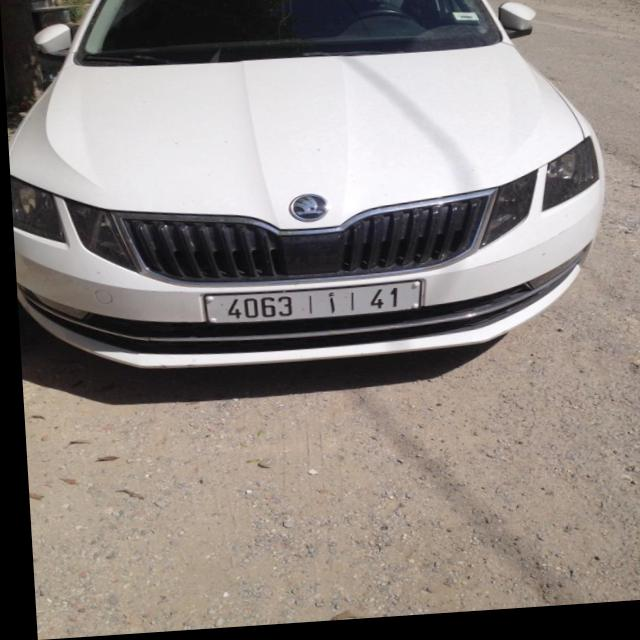License-Plate: (201, 286, 418, 326)
